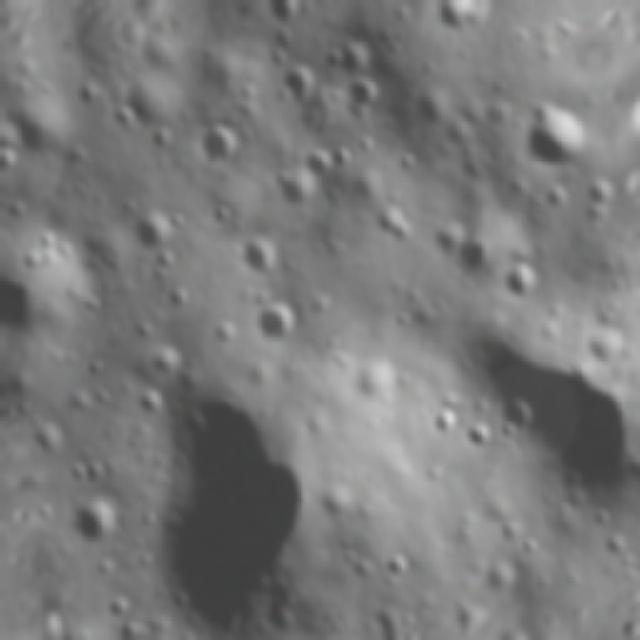crater: (129, 369, 349, 640), (469, 320, 640, 531), (0, 234, 94, 357), (510, 87, 604, 176), (64, 484, 133, 558), (234, 227, 300, 288), (246, 292, 308, 354), (271, 157, 331, 218), (365, 194, 424, 254), (188, 111, 246, 172), (123, 203, 182, 260), (487, 386, 550, 439), (422, 0, 493, 46), (324, 25, 379, 84), (444, 224, 498, 284), (578, 312, 630, 371), (272, 54, 322, 114), (337, 70, 389, 124), (138, 334, 190, 384), (409, 79, 457, 133), (298, 138, 347, 190), (502, 253, 544, 307), (64, 453, 116, 495), (458, 414, 502, 463), (319, 480, 363, 520), (438, 112, 482, 152), (127, 383, 168, 425), (588, 522, 629, 563), (27, 418, 65, 460), (428, 402, 467, 441), (266, 24, 303, 64), (204, 197, 244, 232), (70, 74, 104, 115), (96, 586, 133, 623), (382, 546, 416, 586), (63, 383, 99, 419), (448, 154, 486, 188), (388, 142, 424, 176), (348, 551, 382, 587), (162, 280, 195, 314), (148, 123, 181, 157), (208, 312, 240, 346), (128, 317, 162, 348), (112, 611, 148, 640), (262, 44, 296, 74), (0, 142, 25, 182), (0, 116, 22, 159), (74, 354, 108, 381), (107, 101, 136, 132), (390, 302, 418, 332), (95, 247, 122, 276), (518, 532, 542, 556), (0, 87, 5, 138), (496, 0, 539, 2)
